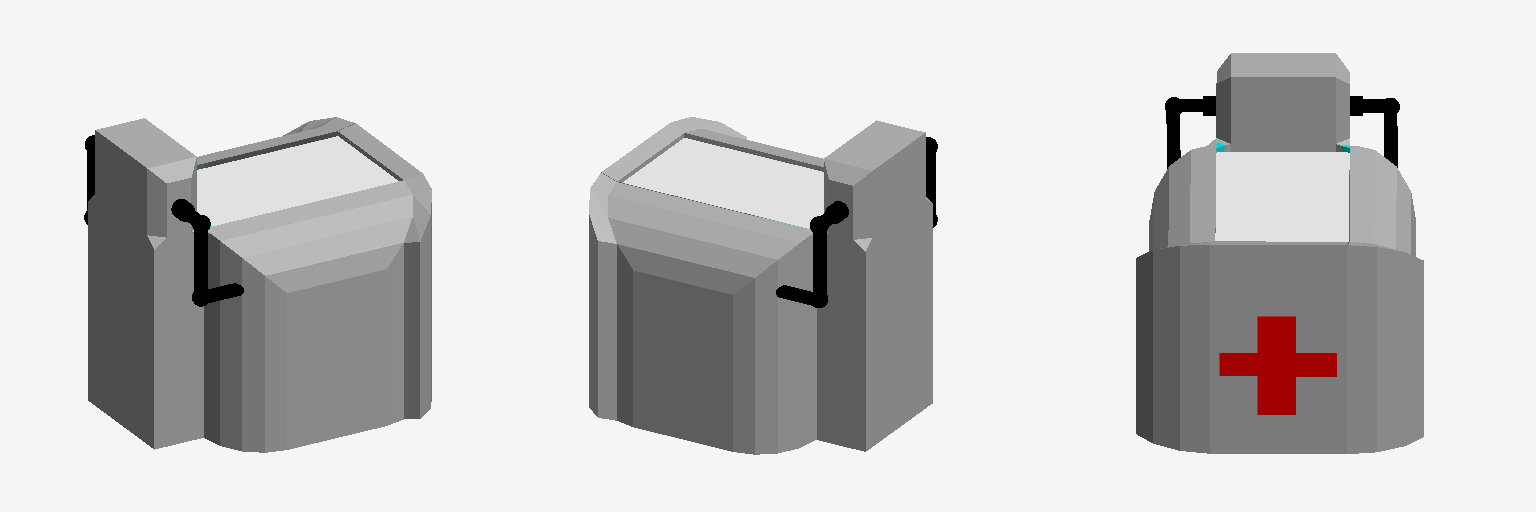
3 views of the same model, side by side, from view 1: azimuth 30°, elevation 25°; view 2: azimuth 150°, elevation 25°; view 3: azimuth 270°, elevation 25° (orthographic).
Visible parts, largest first — view 1: maquinaBlancaPokemon:pSphere2, pCube20; view 2: maquinaBlancaPokemon:pSphere2, pCube20; view 3: maquinaBlancaPokemon:pSphere2, pCube20.
Part boxes in pixels (x1,y1,x2,y2): maquinaBlancaPokemon:pSphere2: (84, 117, 431, 452); pCube20: (197, 136, 398, 226); maquinaBlancaPokemon:pSphere2: (589, 117, 937, 454); pCube20: (623, 138, 823, 228); maquinaBlancaPokemon:pSphere2: (1136, 53, 1423, 453); pCube20: (1215, 152, 1349, 241).
Bounding box in the file's own units: 1.67 × 1.65 × 1.55.
3 materials, 1 textured.